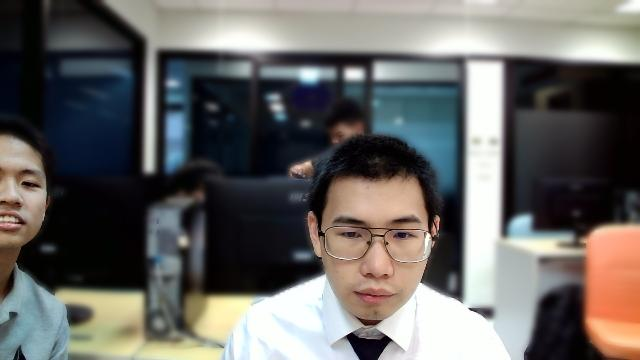fokus: (309, 147, 439, 323)
